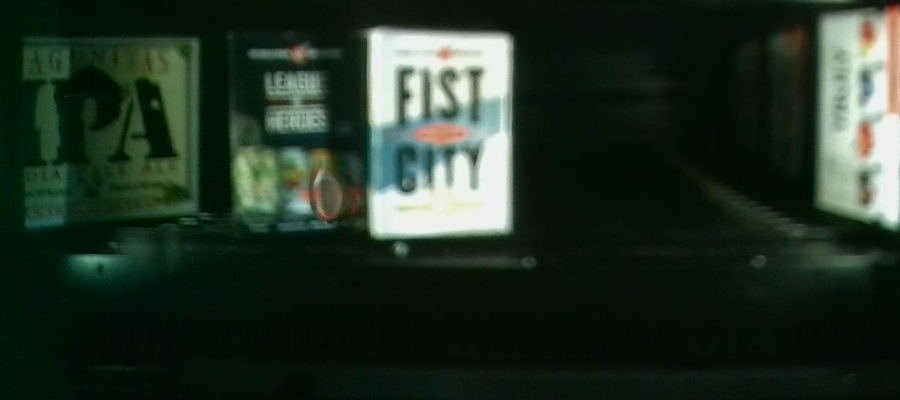bottle: (18, 33, 200, 228), (363, 29, 518, 234), (224, 30, 364, 227)
